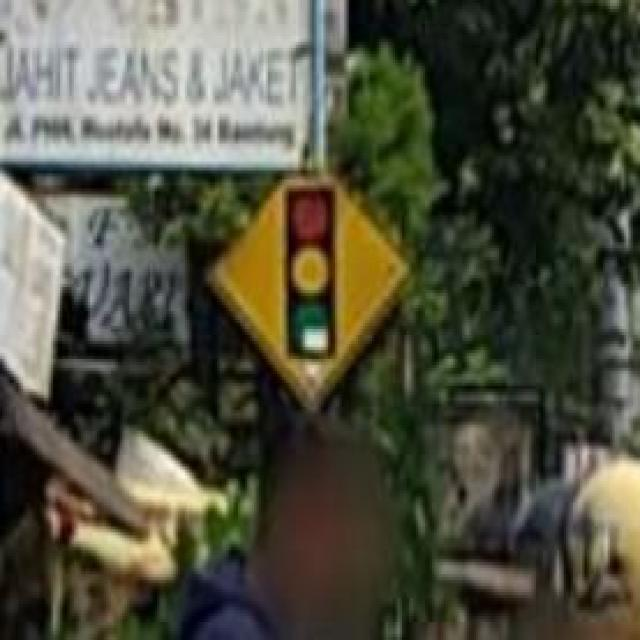traffic sign: (210, 176, 406, 412)
